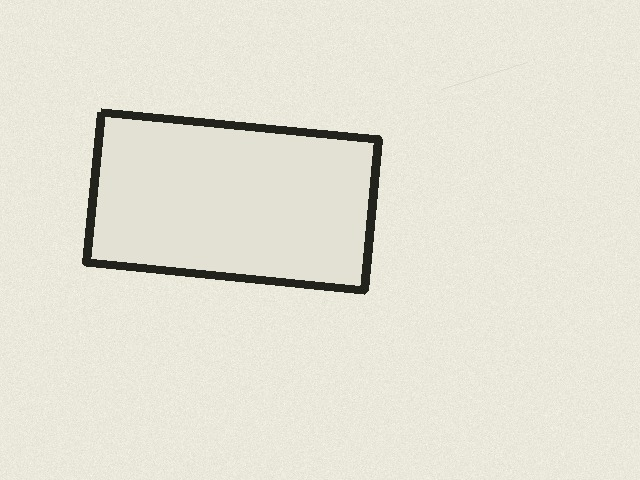parking_area: (86, 112, 378, 290)
